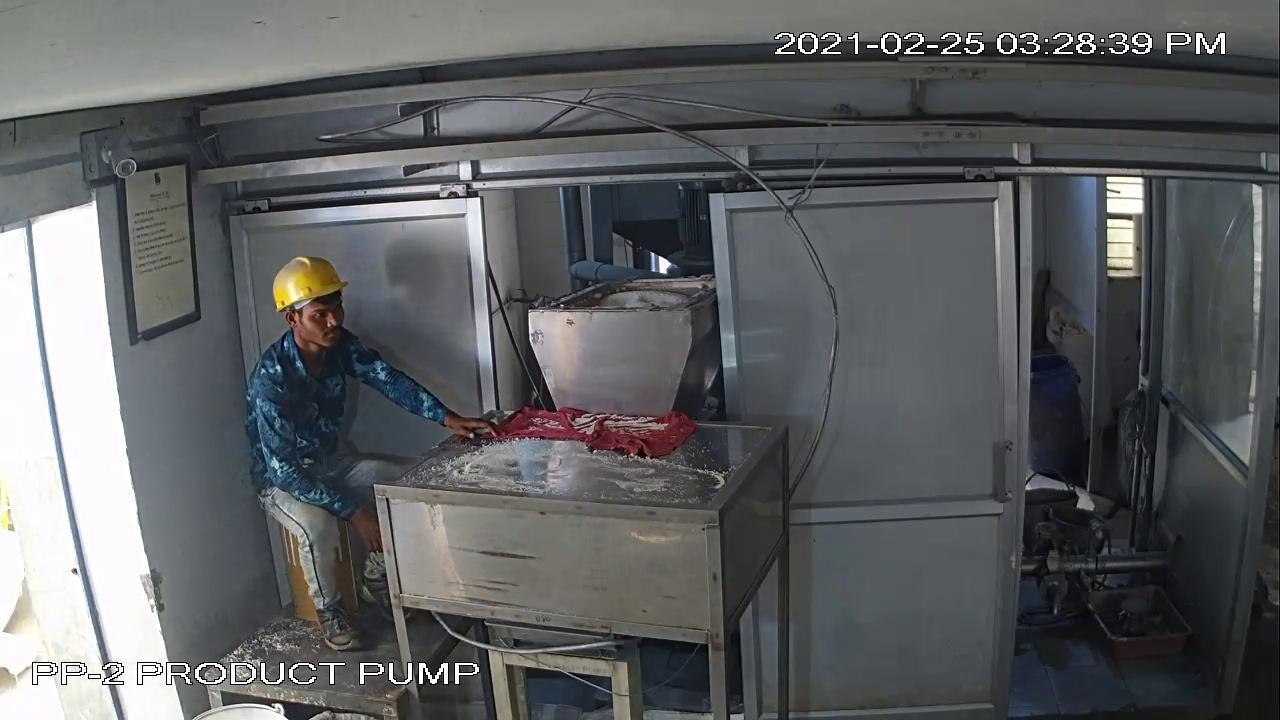helmet: (266, 252, 357, 329)
